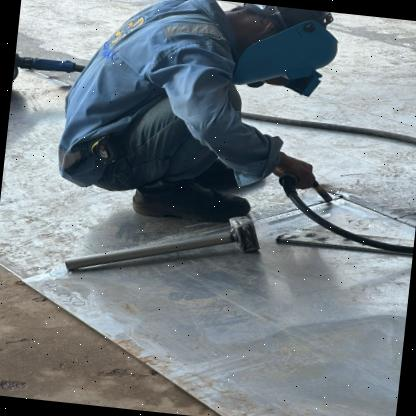bota: (131, 173, 252, 225)
